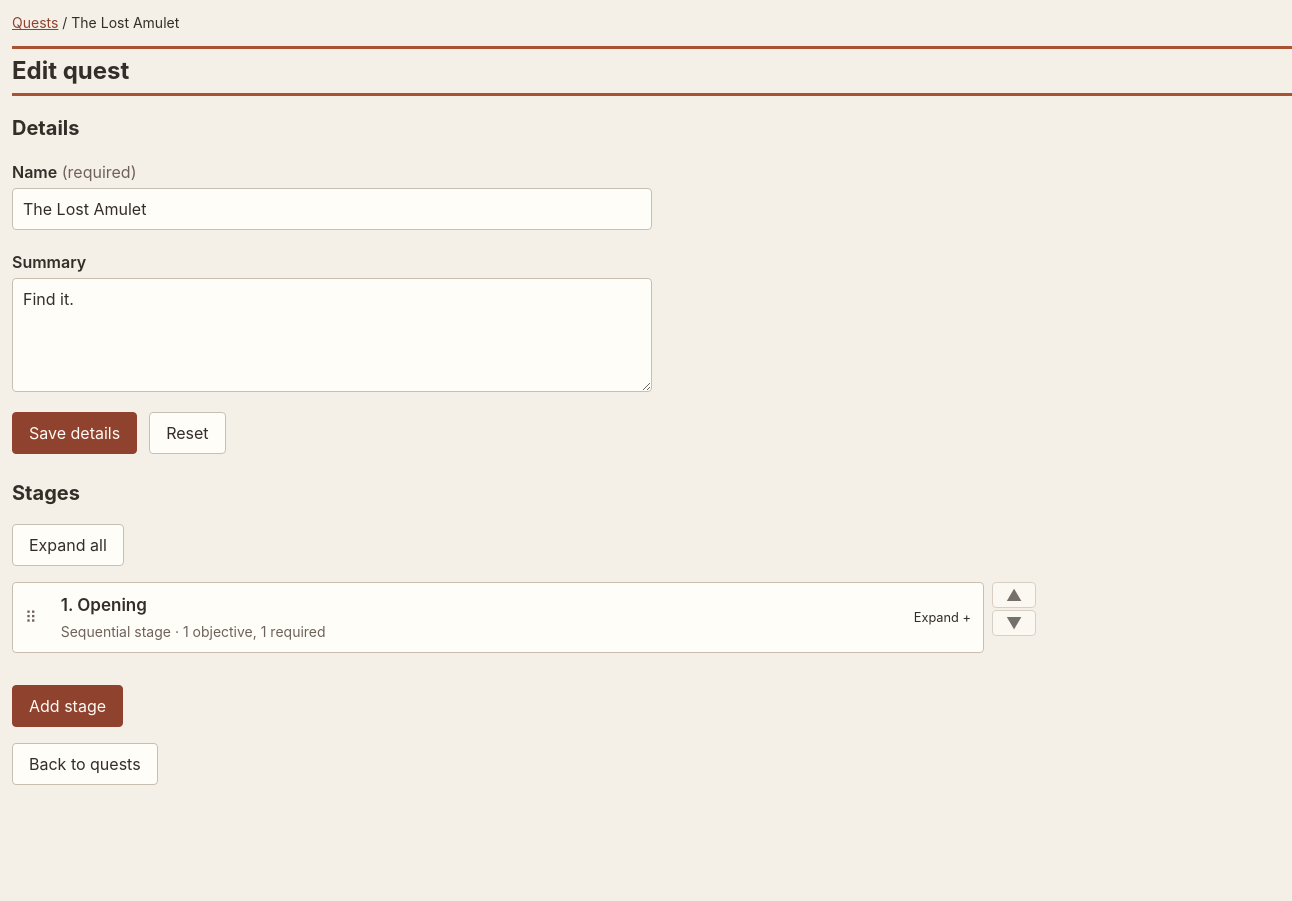
EditQuestPage › renders the aggregate by name, with one h1 and no identifiers
Click the button "Expand all": {"x": 68, "y": 545} [12, 524, 124, 566]
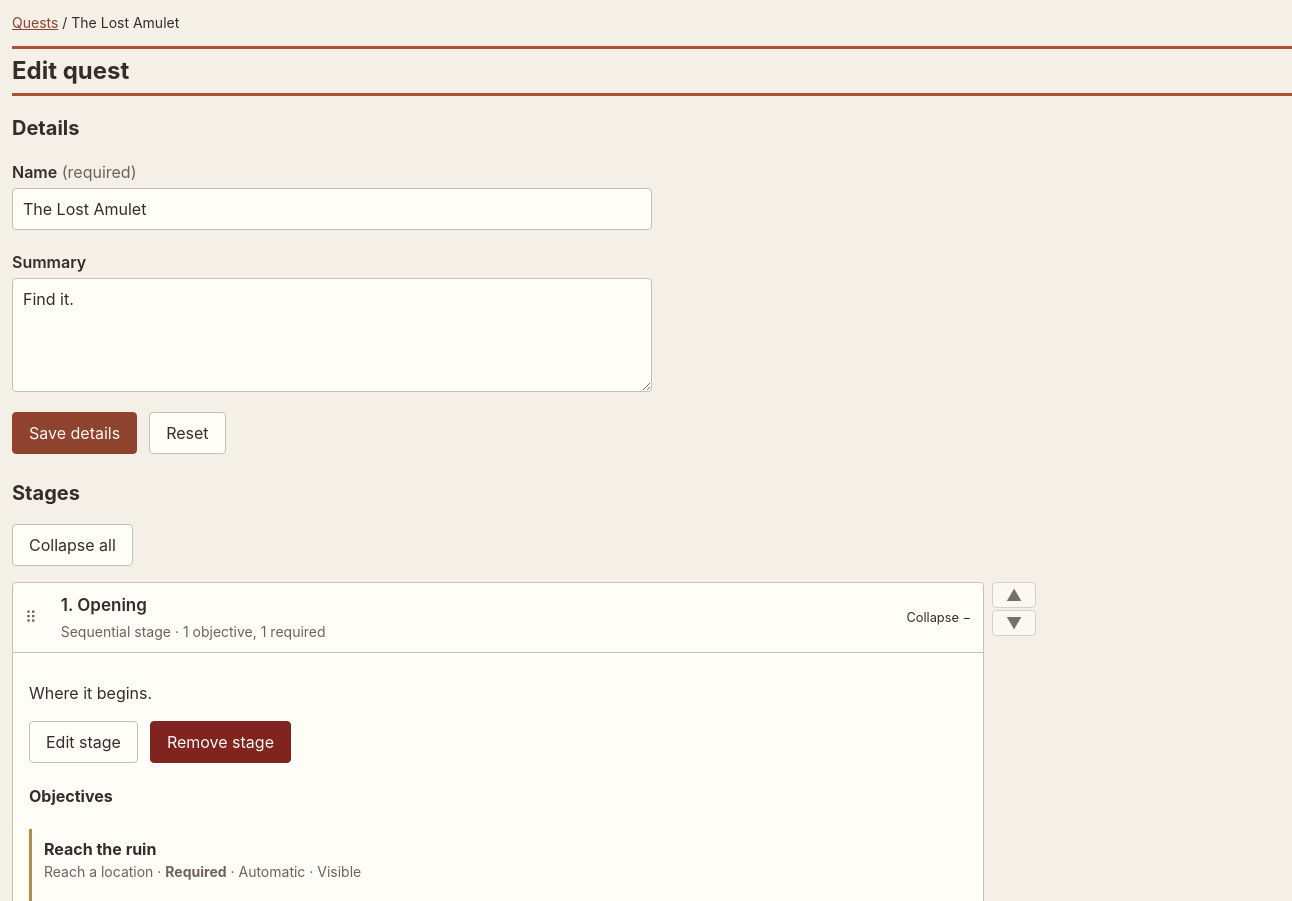
Expected: the heading "Opening" is shown, [49, 583, 983, 652]
Expected: the heading "Reach the ruin" is shown, [44, 839, 156, 859]
